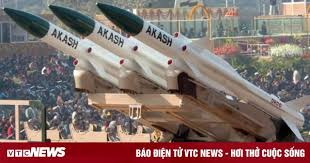maybay_muctieu: (95, 1, 310, 135), (46, 2, 175, 85)
